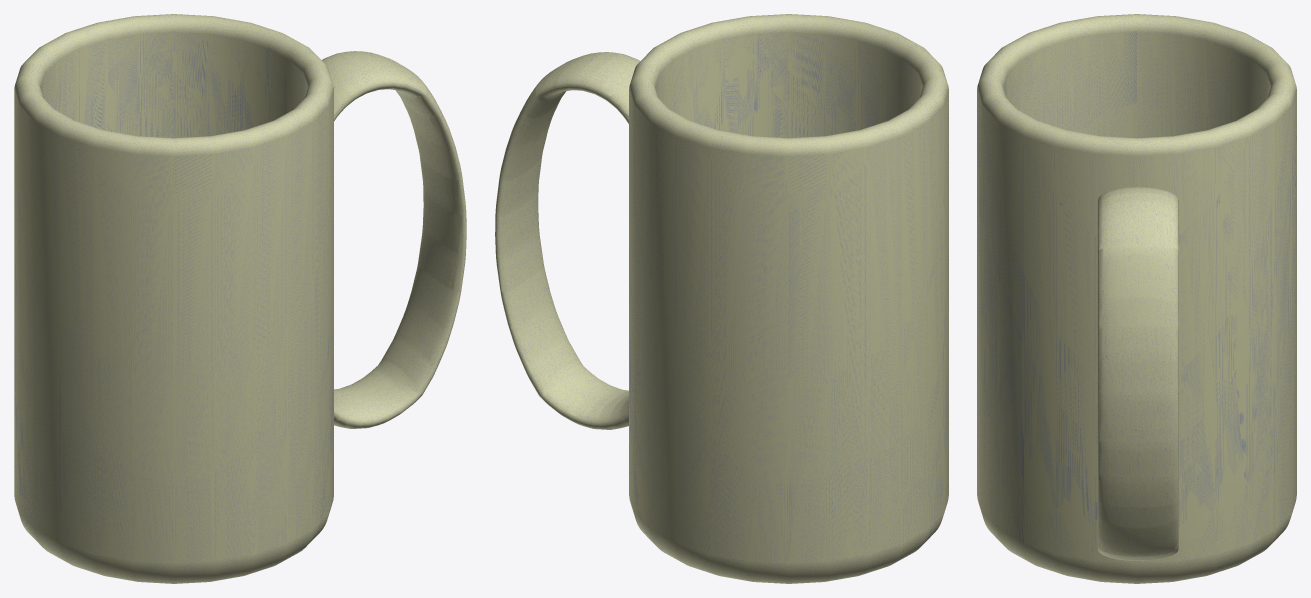
File: cup2.dae
3 views of the same model, side by side, from view 1: azimuth 30°, elevation 25°; view 2: azimuth 150°, elevation 25°; view 3: azimuth 270°, elevation 25° (orthographic).
Parts seen in each view (by area): view 1: group_0, group_0_001; view 2: group_0, group_0_001; view 3: group_0, group_0_001.
Part boxes in pixels (x1,y1,x2,y2): group_0: (14,14,333,583); group_0_001: (322,51,466,428); group_0: (629,14,948,583); group_0_001: (495,52,640,429); group_0: (977,14,1296,583); group_0_001: (1097,187,1178,560).
Size of the model in its own units: 0.1975 by 0.1309 by 0.2043.
